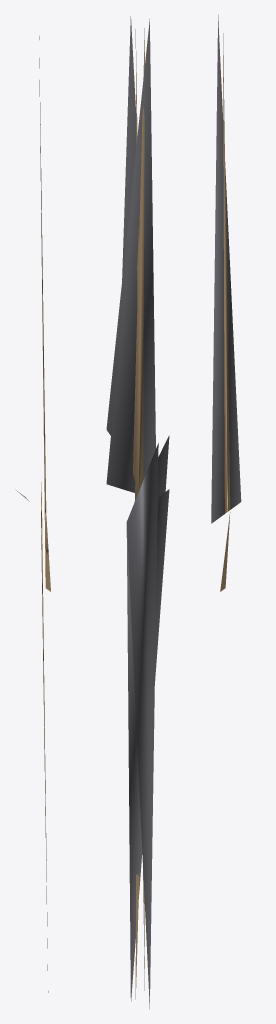
The model's file is equip_weapon_black_axe.glb.
3 renders of one model, left to right at view 1: azimuth 30°, elevation 25°; view 2: azimuth 150°, elevation 25°; view 3: azimuth 330°, elevation 25°, orthographic.
Visible parts, largest first — view 1: equip_weapon_black_axe; view 2: equip_weapon_black_axe; view 3: equip_weapon_black_axe.
Boxes of the visible parts, left/top/right/bottom form: equip_weapon_black_axe: left=15, top=36, right=50, bottom=992; equip_weapon_black_axe: left=106, top=16, right=169, bottom=1009; equip_weapon_black_axe: left=211, top=14, right=241, bottom=591.
Size of the model in its own units: 0.11 by 2 by 0.11.
